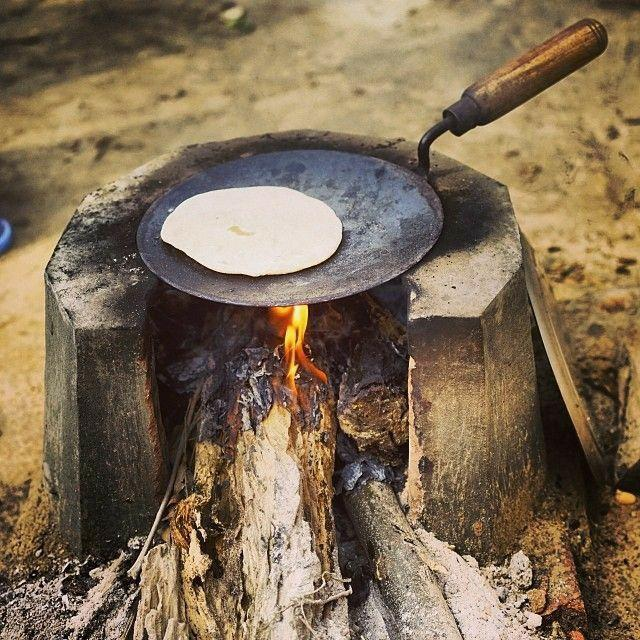fire: (269, 304, 327, 391)
